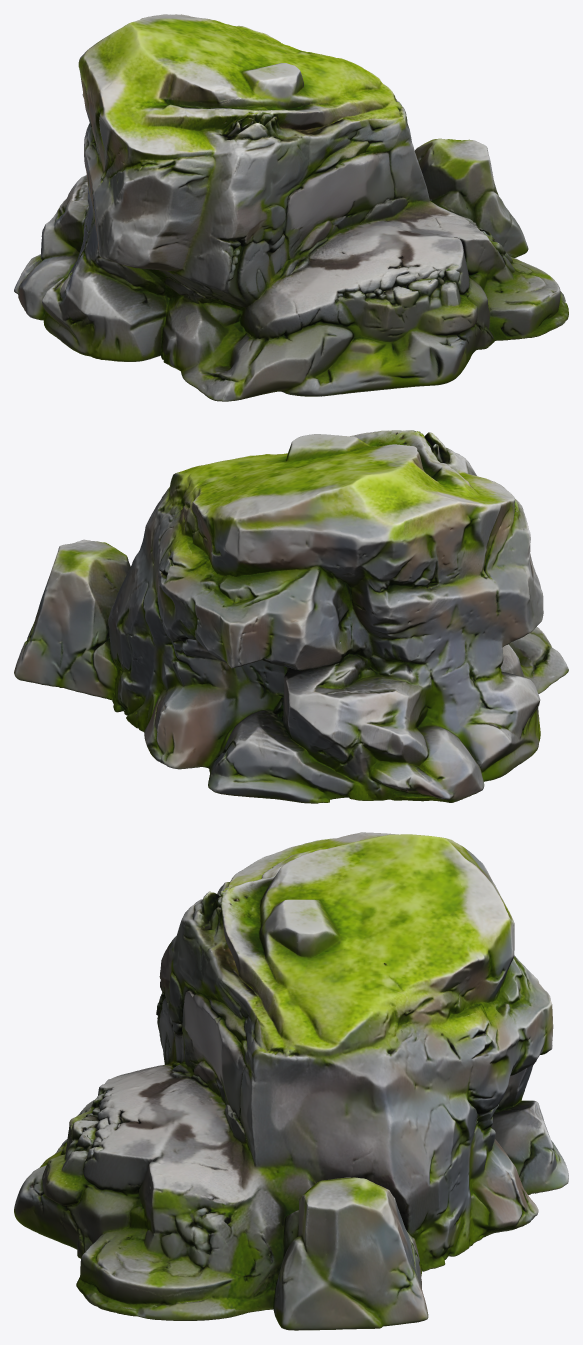
File: Meshy_AI_rock_1016134533_texture.fbx
3 renders of one model, top to bottom at view 1: azimuth 30°, elevation 25°; view 2: azimuth 150°, elevation 25°; view 3: azimuth 270°, elevation 25°, orthographic. The views are drawn at different scales.
Parts seen in each view (by area): view 1: Mesh_0; view 2: Mesh_0; view 3: Mesh_0.
Boxes of the visible parts, x1,y1,x2,y2 form: Mesh_0: (14,14,568,401); Mesh_0: (14,430,568,803); Mesh_0: (14,832,568,1330).
Bounding box in the file's own units: 190 × 106 × 174.
1 material, 1 textured.
